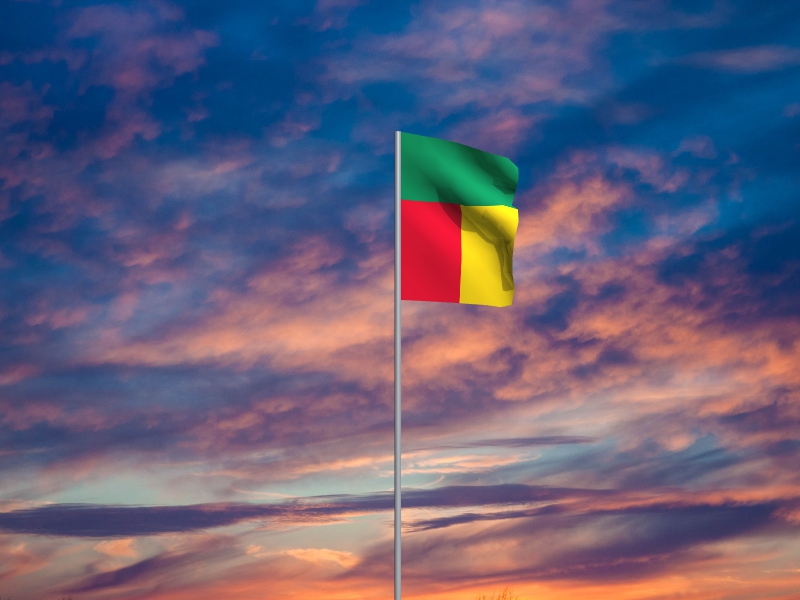bj: (402, 132, 521, 308)
